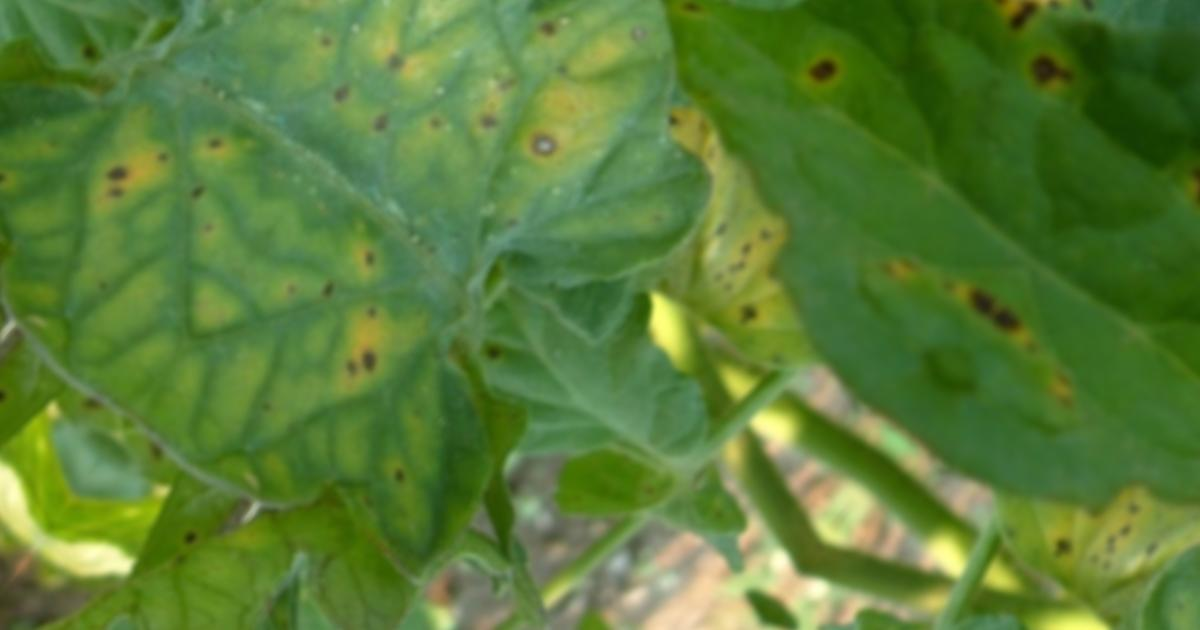Tomato Septoria leaf spot: (115, 0, 807, 630)
